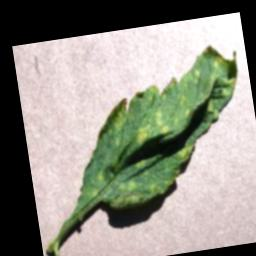Leaf_Mold: (62, 40, 256, 214)
